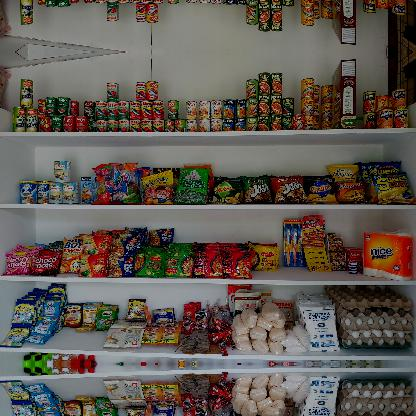Koko-Krunch: (332, 58, 356, 128), (332, 0, 357, 47)
